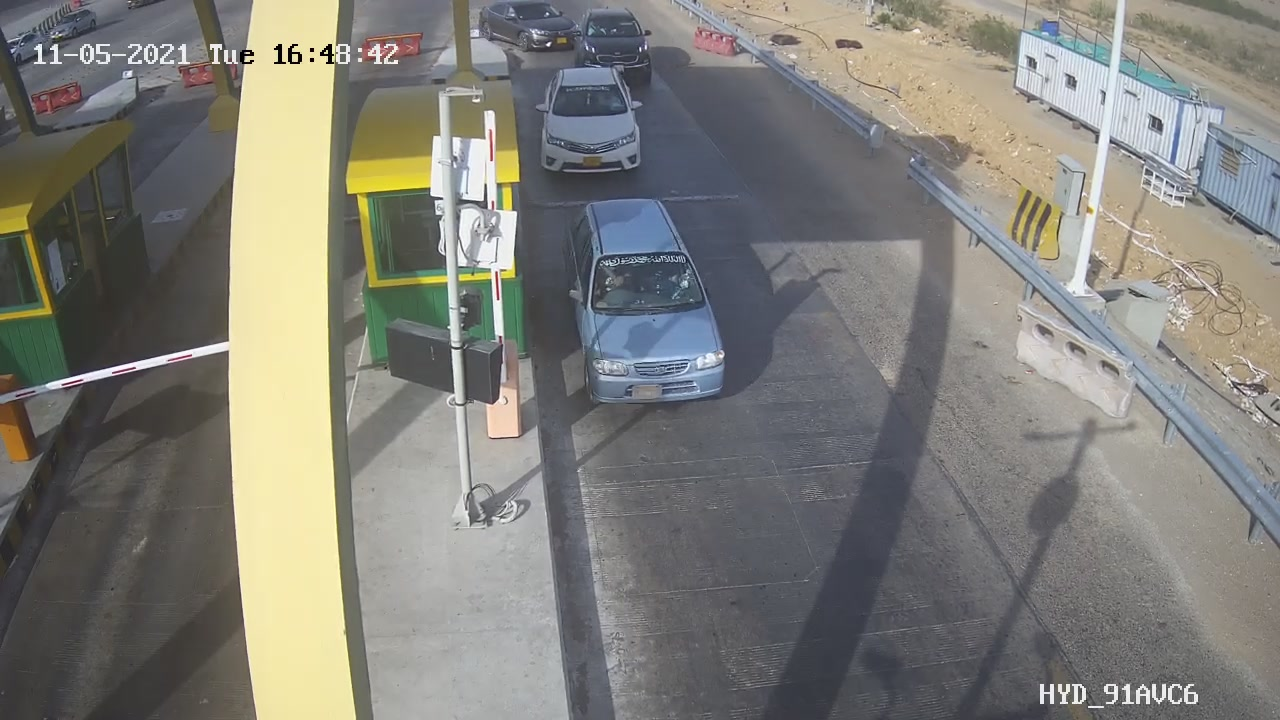F1: (547, 188, 752, 424), (525, 55, 672, 186)
